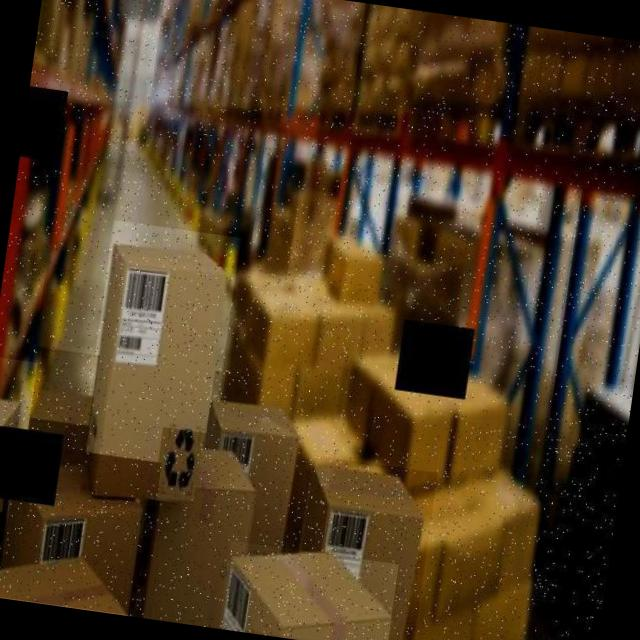box: (74, 221, 240, 524), (289, 455, 438, 640), (136, 428, 264, 630), (192, 371, 328, 554), (0, 441, 161, 586), (218, 540, 398, 640), (0, 508, 145, 616), (22, 348, 100, 470), (0, 356, 37, 597)
